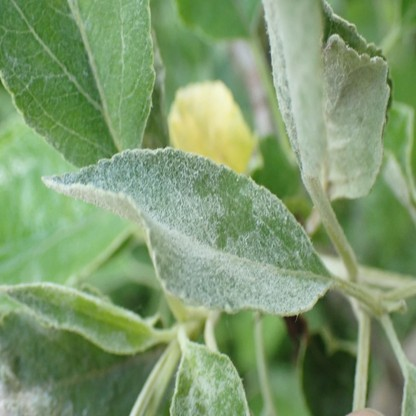powdery_mildew: (41, 146, 329, 317), (1, 0, 155, 167), (265, 3, 394, 201), (170, 339, 251, 416), (2, 343, 73, 416)
